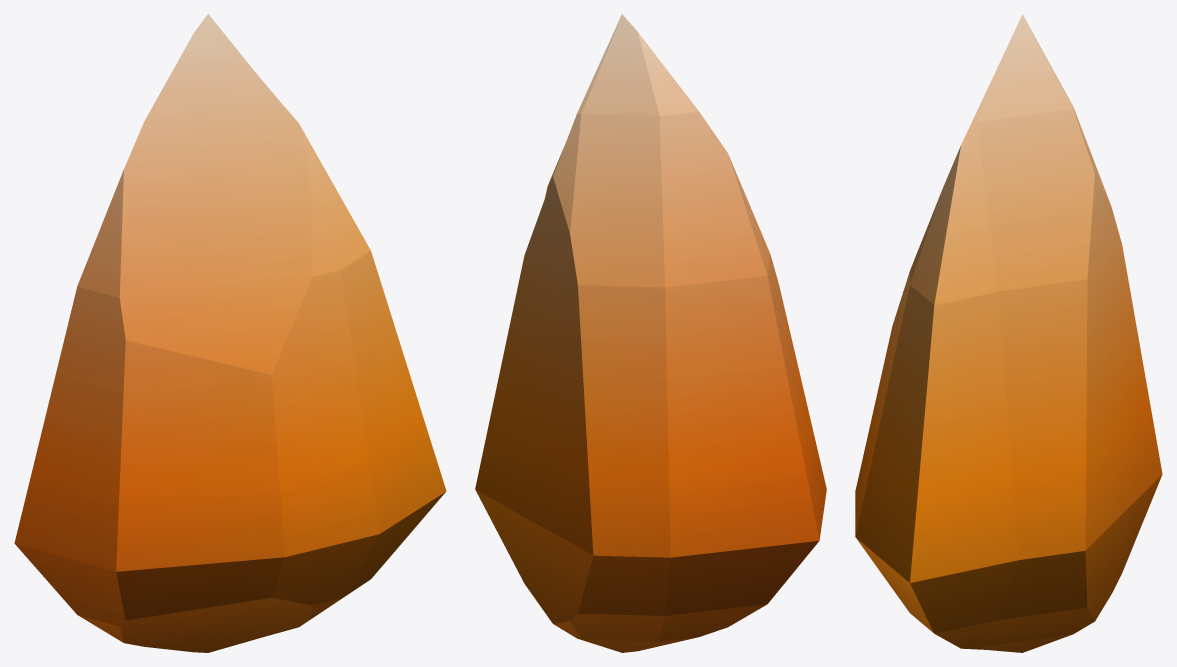
The model's file is boulder6.FBX.
The picture shows the model from 3 angles, left to right: view 1: azimuth 30°, elevation 25°; view 2: azimuth 150°, elevation 25°; view 3: azimuth 270°, elevation 25°; orthographic projection.
Parts seen in each view (by area): view 1: boulder6; view 2: boulder6; view 3: boulder6.
Part boxes in pixels (x1,y1,x2,y2): boulder6: (14, 14, 446, 652); boulder6: (475, 14, 826, 652); boulder6: (855, 14, 1162, 652).
Bounding box in the file's own units: 0.8 × 0.5635 × 1.29.
1 material, 1 textured.
